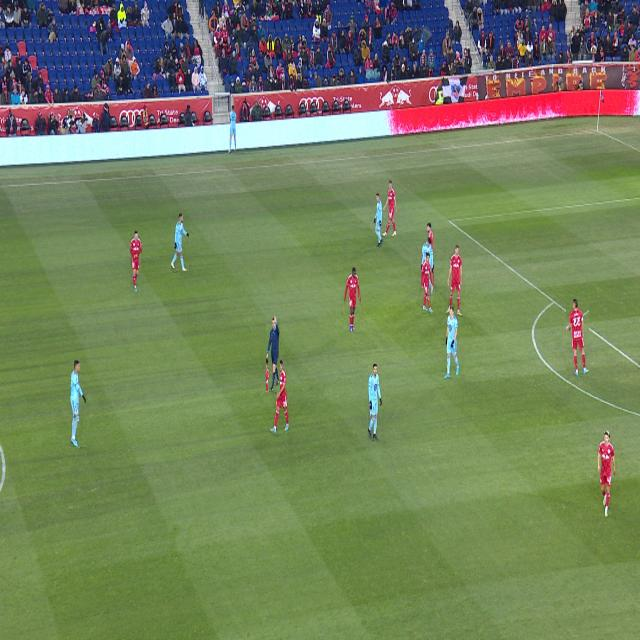player: (567, 299, 589, 376), (598, 430, 616, 517), (270, 359, 289, 433), (70, 361, 86, 447), (446, 244, 463, 316), (444, 306, 459, 379), (368, 365, 382, 440), (171, 213, 189, 271), (345, 268, 360, 332), (382, 180, 398, 237), (422, 253, 433, 313), (131, 231, 141, 292), (374, 193, 383, 247), (421, 237, 434, 273), (427, 223, 434, 266), (421, 278, 426, 295)
referee: (266, 317, 280, 392)
